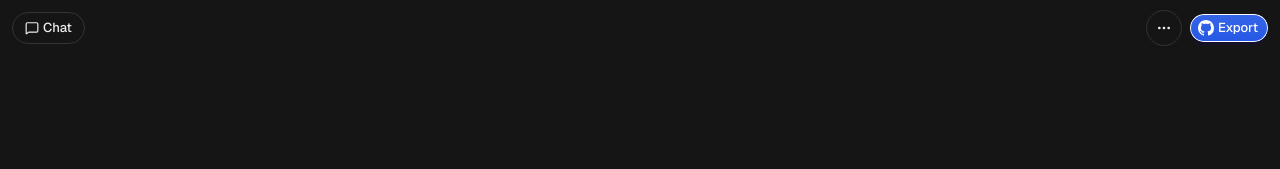
MobileBar › the menu has no code view on a phone
The image size is (1280, 169).
Click the button named "More actions".
click(1164, 28)  # box top-left (1146, 10), bottom-right (1182, 46)
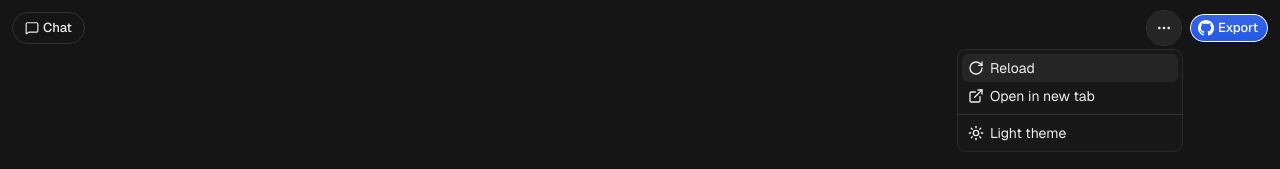
Now the menu item "Open in new tab" is shown, box top-left (968, 87), bottom-right (1095, 105)
